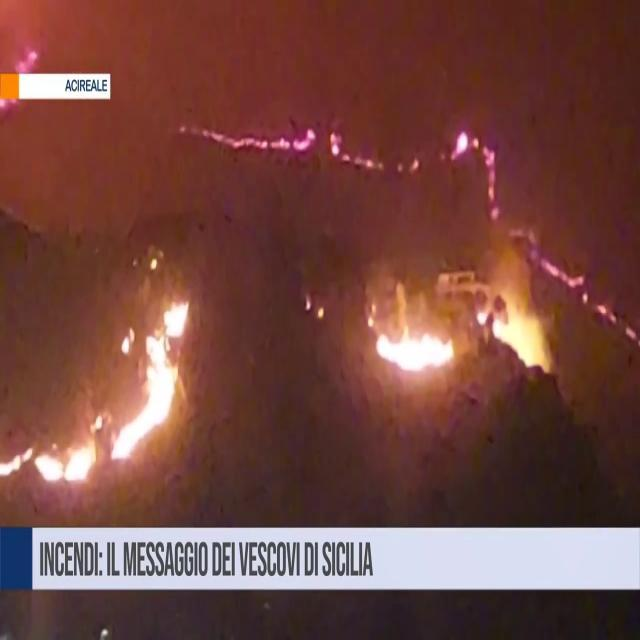Fire: (7, 276, 194, 498), (372, 293, 456, 382), (486, 283, 541, 373)
